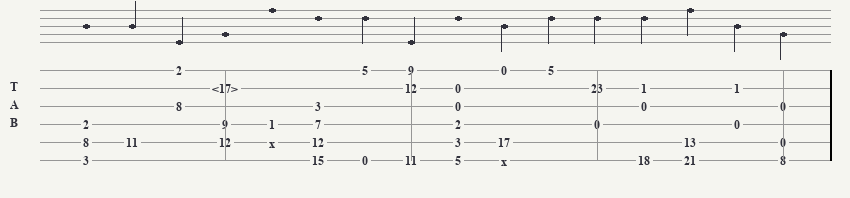0: (362, 154, 372, 167), (455, 82, 465, 95), (455, 100, 465, 113), (501, 64, 511, 77), (594, 118, 604, 131), (641, 100, 651, 113), (734, 118, 744, 131), (780, 136, 790, 149), (780, 100, 790, 113)
1: (269, 118, 279, 131), (641, 82, 651, 95), (734, 82, 744, 95)
11: (126, 136, 142, 149), (405, 154, 421, 167)
12: (219, 136, 235, 149), (312, 136, 328, 149), (405, 82, 421, 95)
13: (684, 136, 700, 149)
15: (312, 154, 328, 167)
17: (498, 136, 514, 149)
18: (638, 154, 654, 167)
2: (83, 118, 93, 131), (176, 64, 186, 77), (455, 118, 465, 131)
21: (684, 154, 700, 167)
23: (591, 82, 607, 95)
3: (83, 154, 93, 167), (315, 100, 325, 113), (455, 136, 465, 149)
5: (362, 64, 372, 77), (455, 154, 465, 167), (548, 64, 558, 77)
7: (315, 118, 325, 131)
8: (83, 136, 93, 149), (176, 100, 186, 113), (780, 154, 790, 167)
9: (222, 118, 232, 131), (408, 64, 418, 77)
harmonic: (212, 82, 242, 95)
x: (269, 137, 279, 147), (501, 155, 511, 165)
